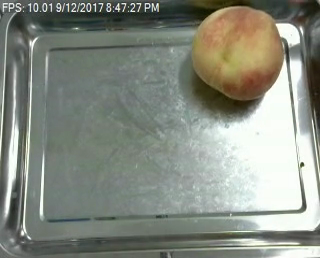Peach: (191, 4, 285, 100)
